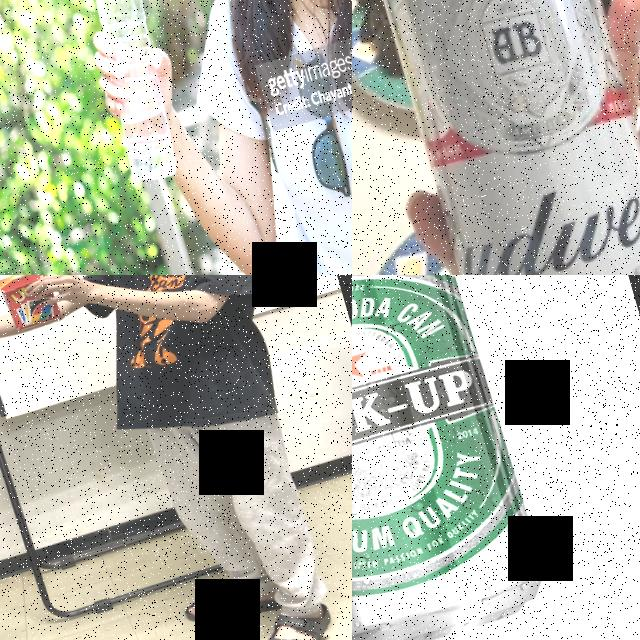bottle: (62, 0, 196, 189)
can: (352, 0, 640, 275), (352, 275, 559, 640)
